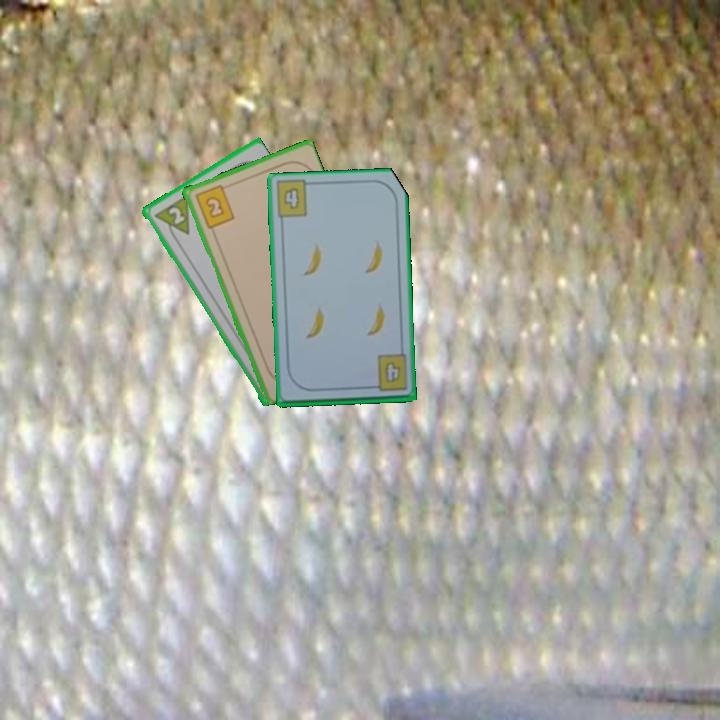2b: (191, 181, 237, 231)
2p: (150, 192, 193, 245)
4b: (366, 352, 410, 394), (280, 184, 302, 212)
